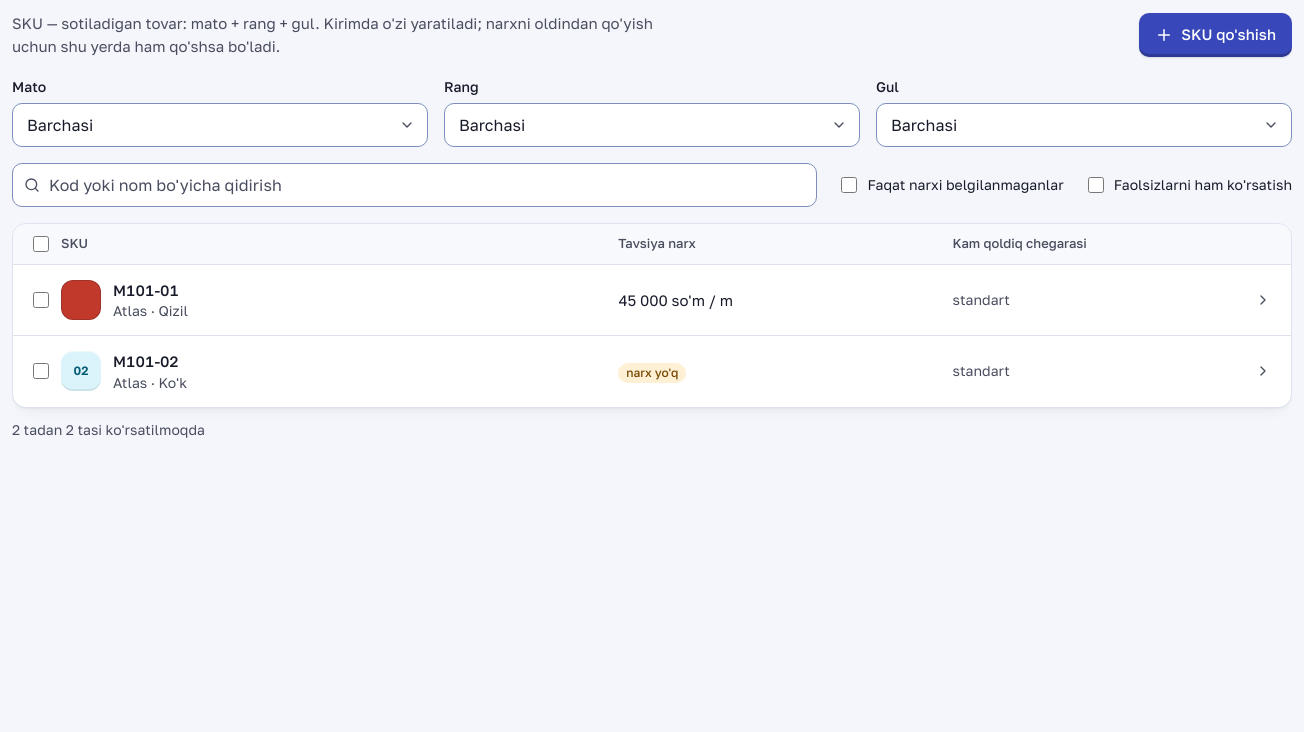
Test: SKU ro'yxati › tanlangan SKU'larga bir yo'la narx qo'yadi
Expected: the text "M101-01" is shown, [113,278,179,301]
Expected: the button "Narx qo'yish" is not shown
Click the checkbox named "Ko'rsatilganlarning hammasini tanlash" at (41, 244), box [33,236,49,252]
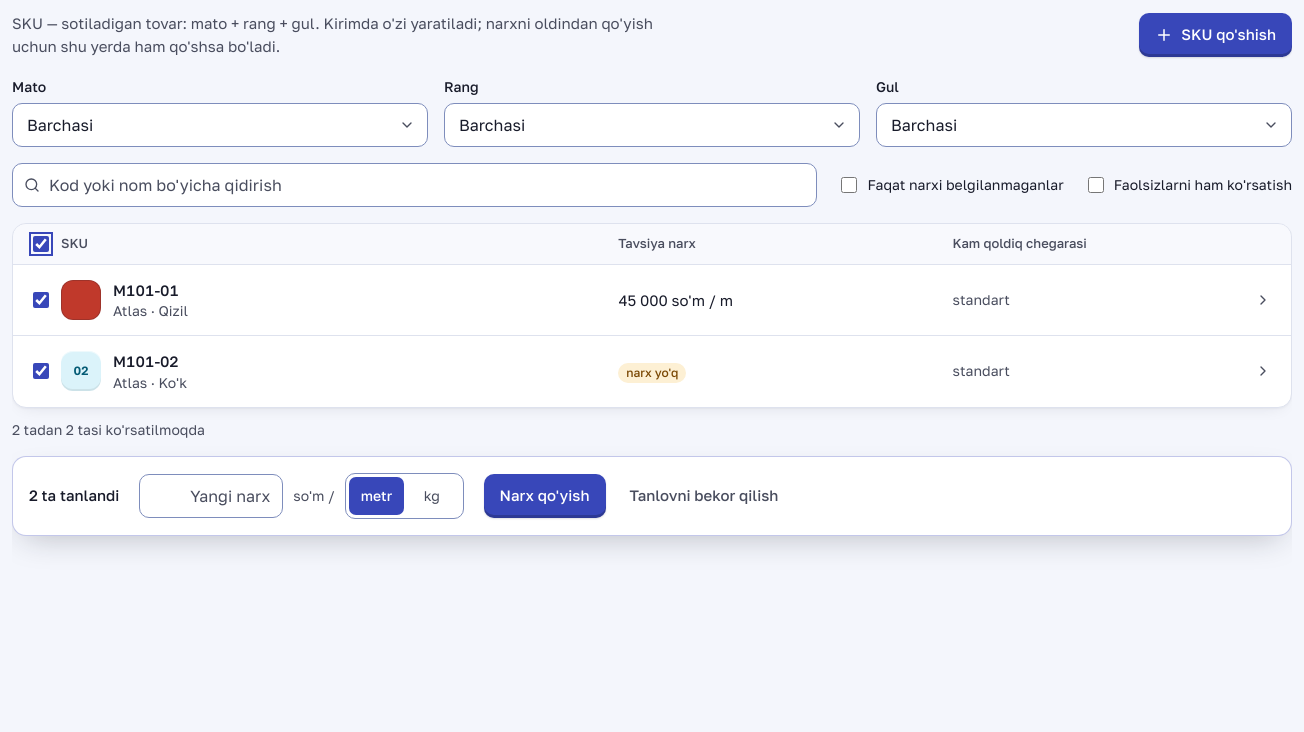
Expected: the text "2 ta tanlandi" is shown, [29,484,119,507]
Click the button "Narx qo'yish" at (545, 496), box [484,474,606,518]
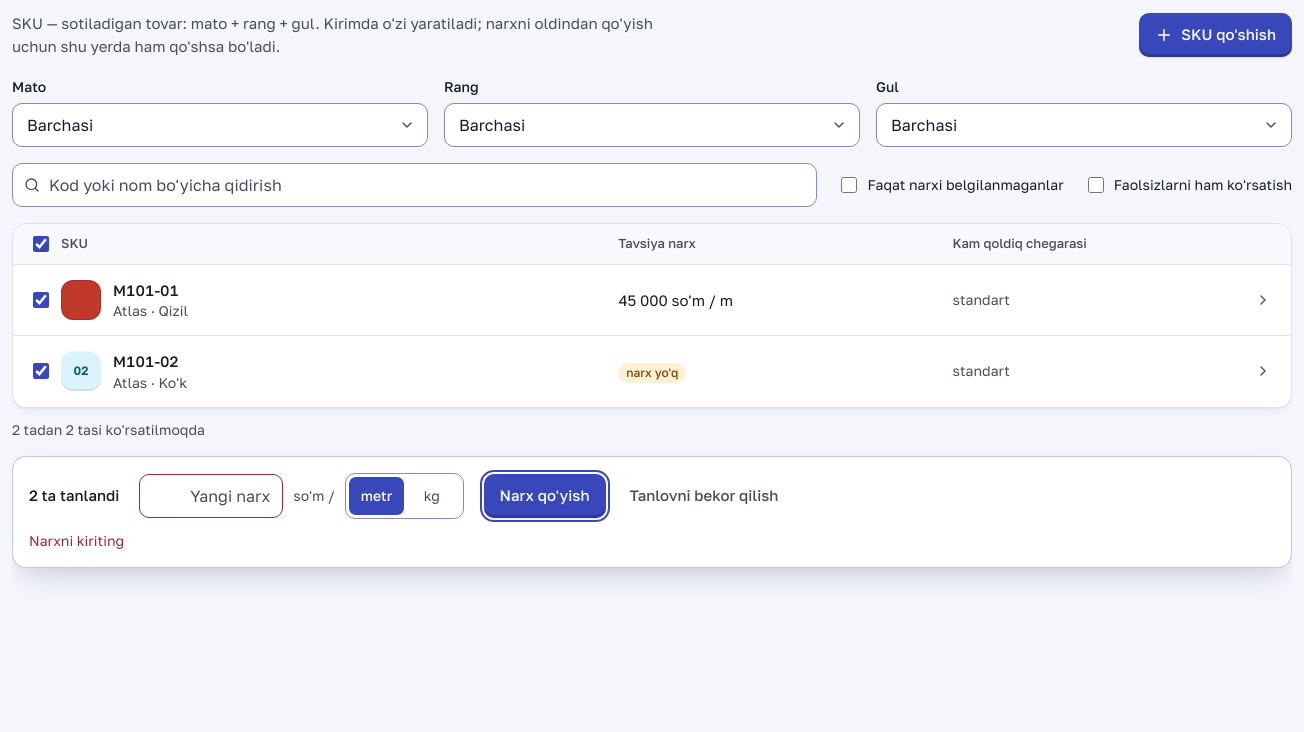
Expected: the text "Narxni kiriting" is shown, [29,532,124,548]
Type "50000" into the field labelled "Yangi narx" at (211, 496), box [139,474,283,518]
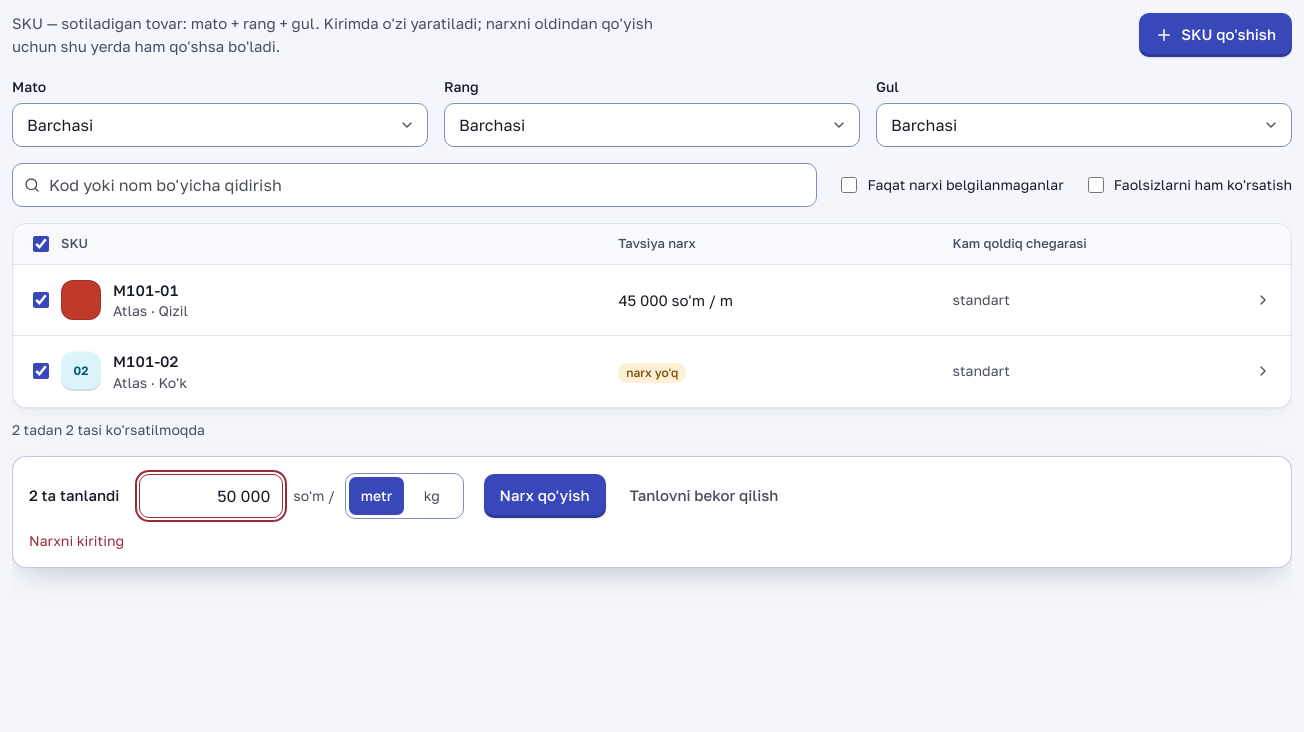
Expected: the field named "Yangi narx" holds "50 000", [139,474,283,518]
Click the radio button labelled "kg" at (432, 496), box [404,476,460,514]
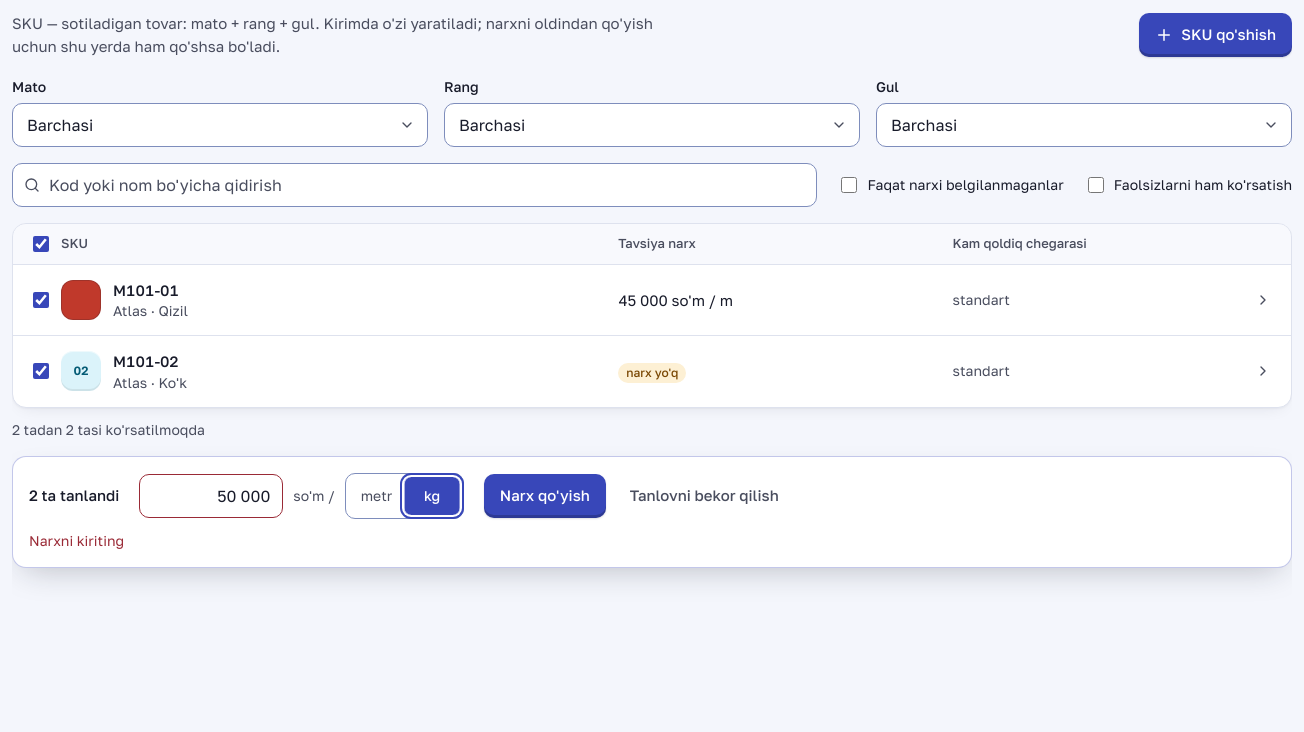
Click the button "Narx qo'yish" at (545, 496), box [484,474,606,518]
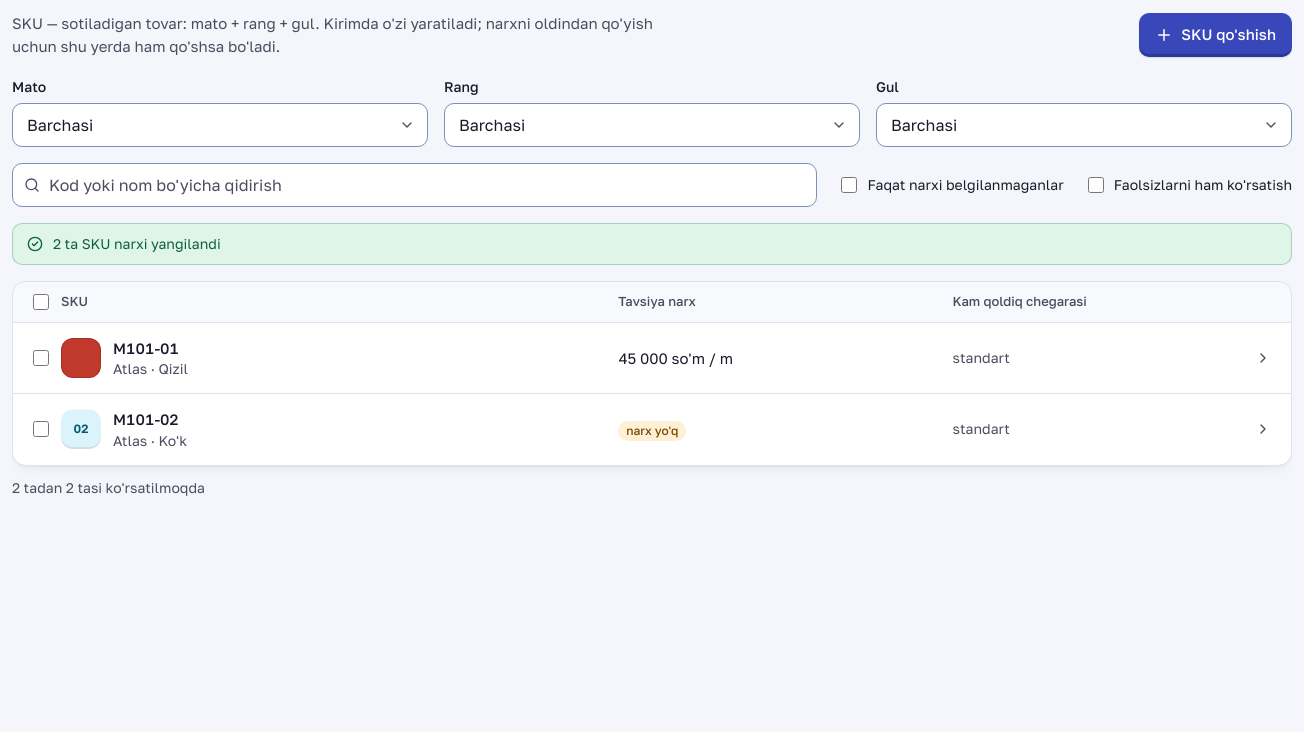
Expected: the text "2 ta SKU narxi yangilandi" is shown, [53,234,221,254]
Expected: the text "2 ta tanlandi" is gone
